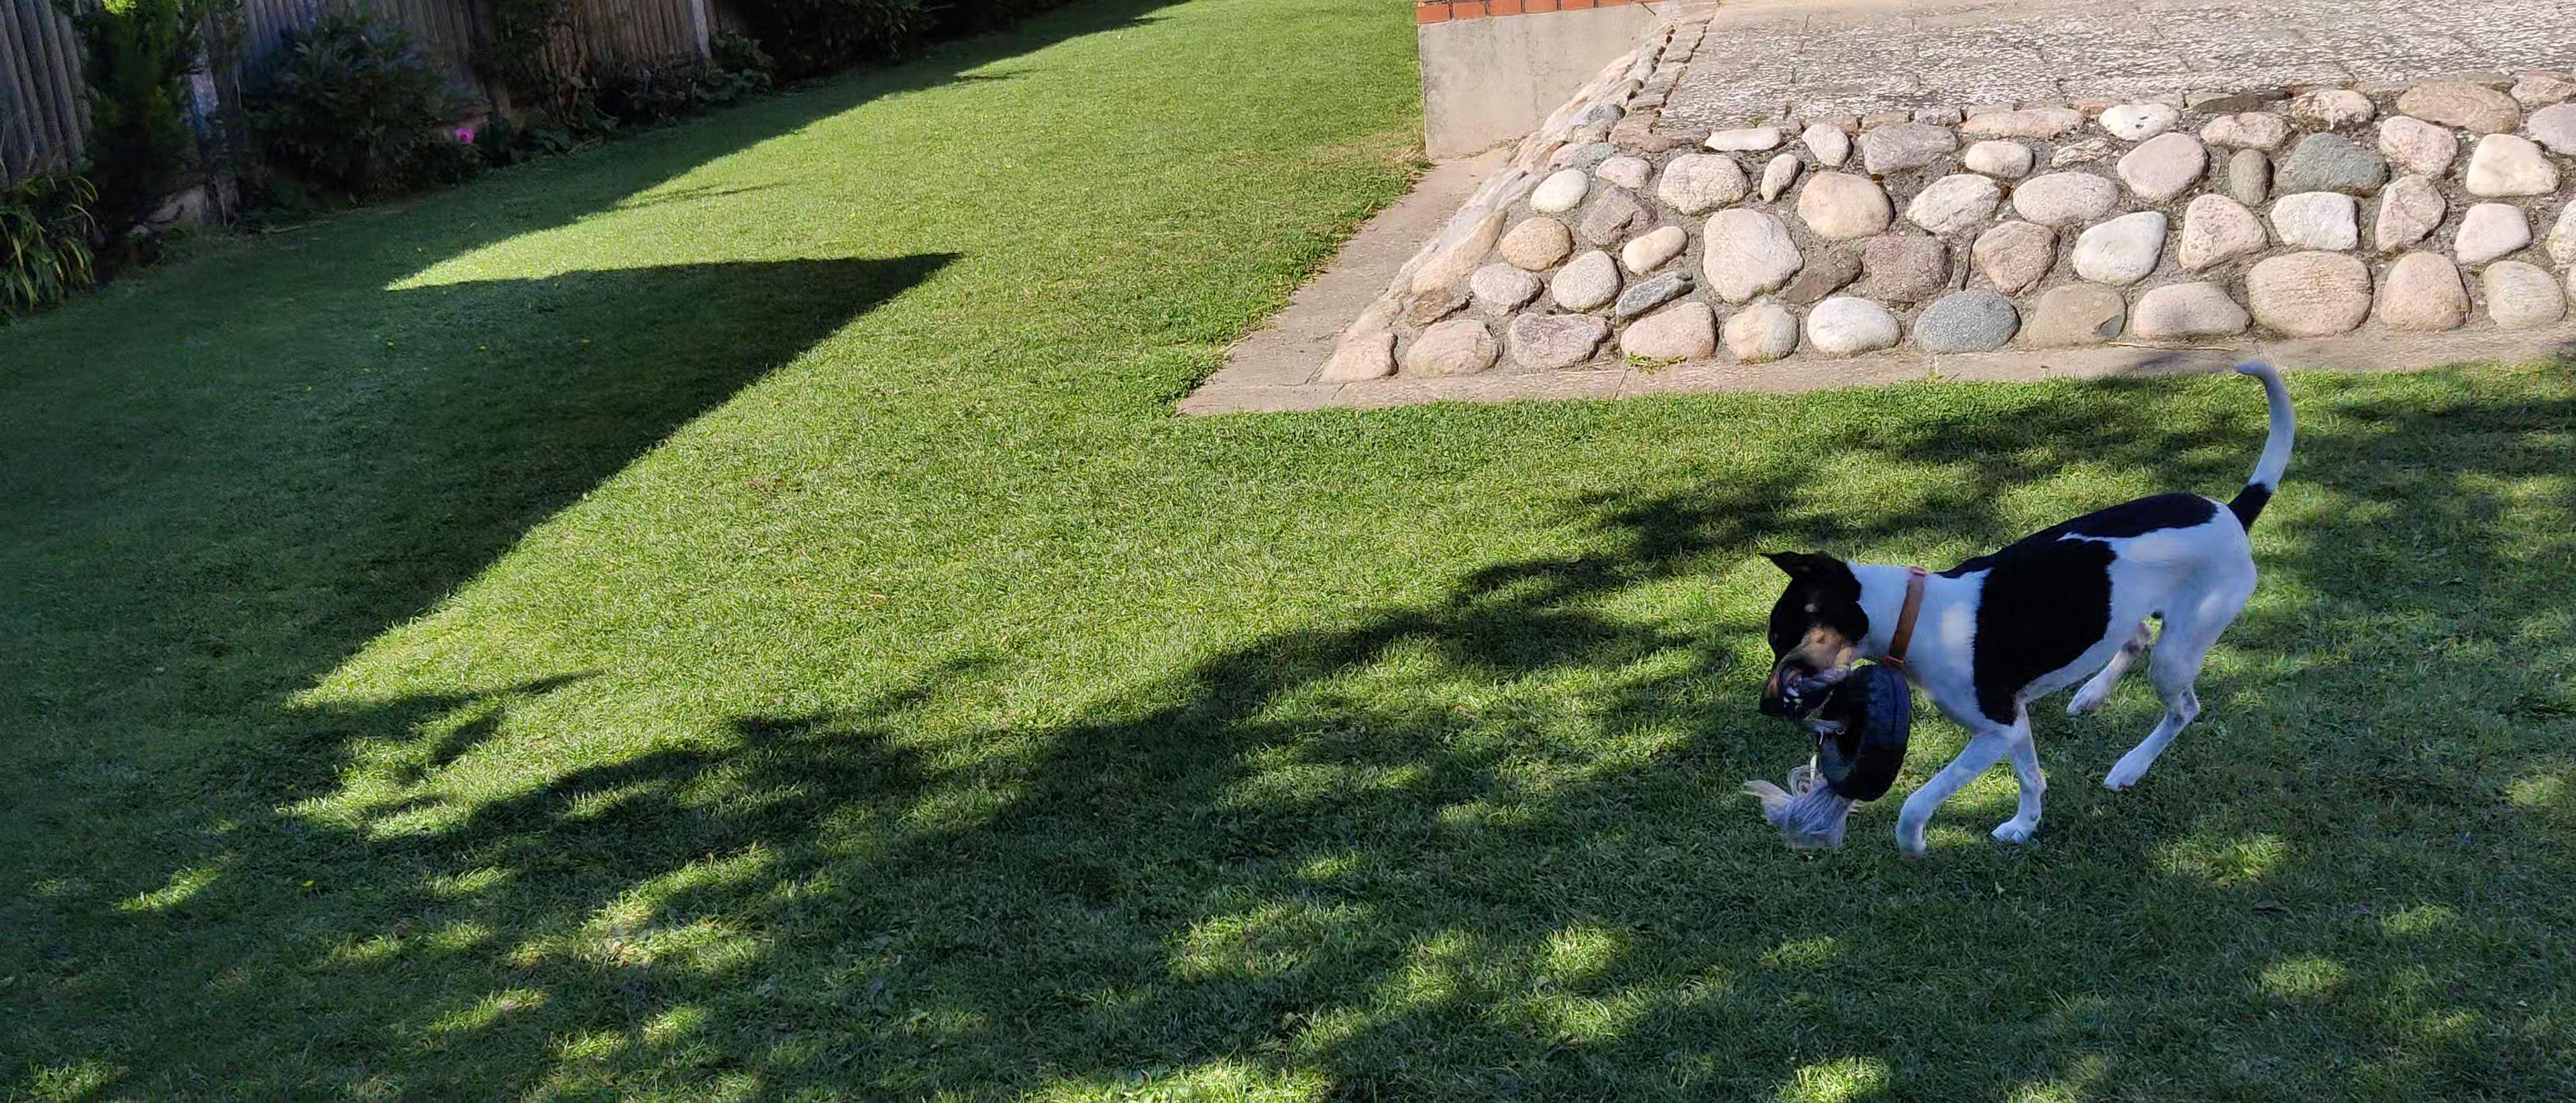Dog: (1743, 350, 2307, 855)
